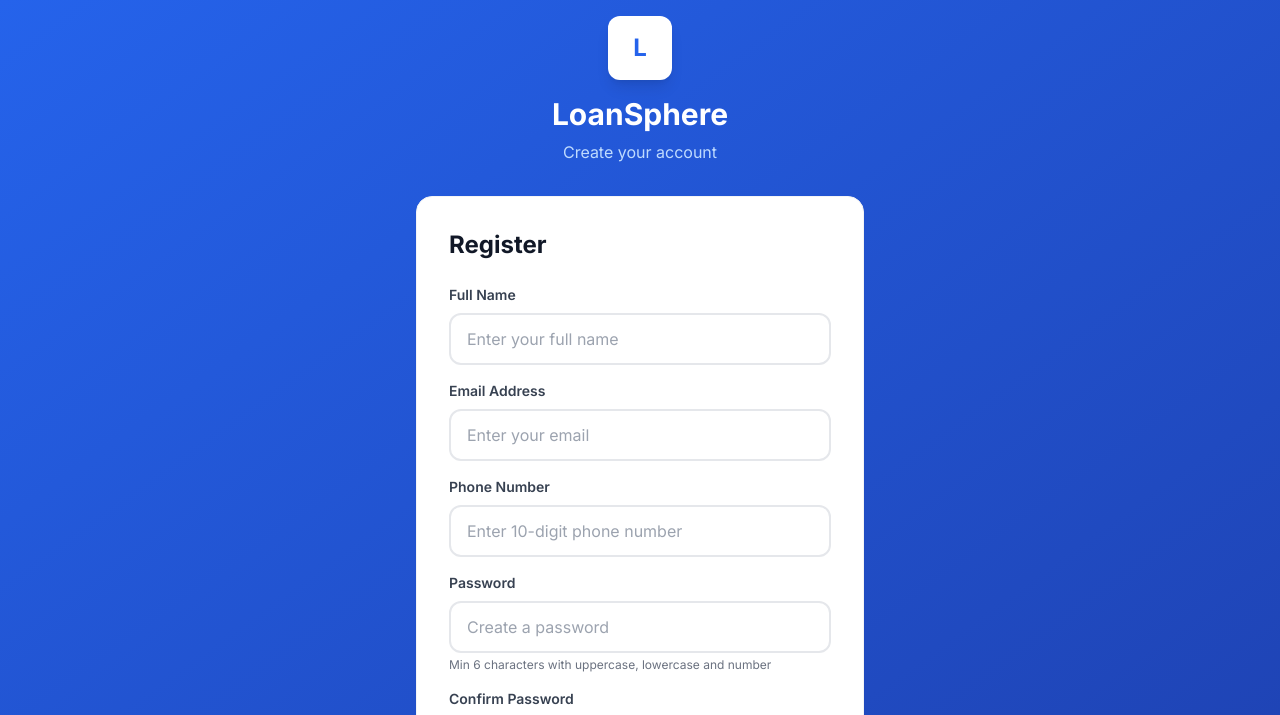
Test case: Authentication › Registration › should validate password match
Step 1. Type "Test User" into the field named "name" → (640, 339), box [449, 313, 831, 365]
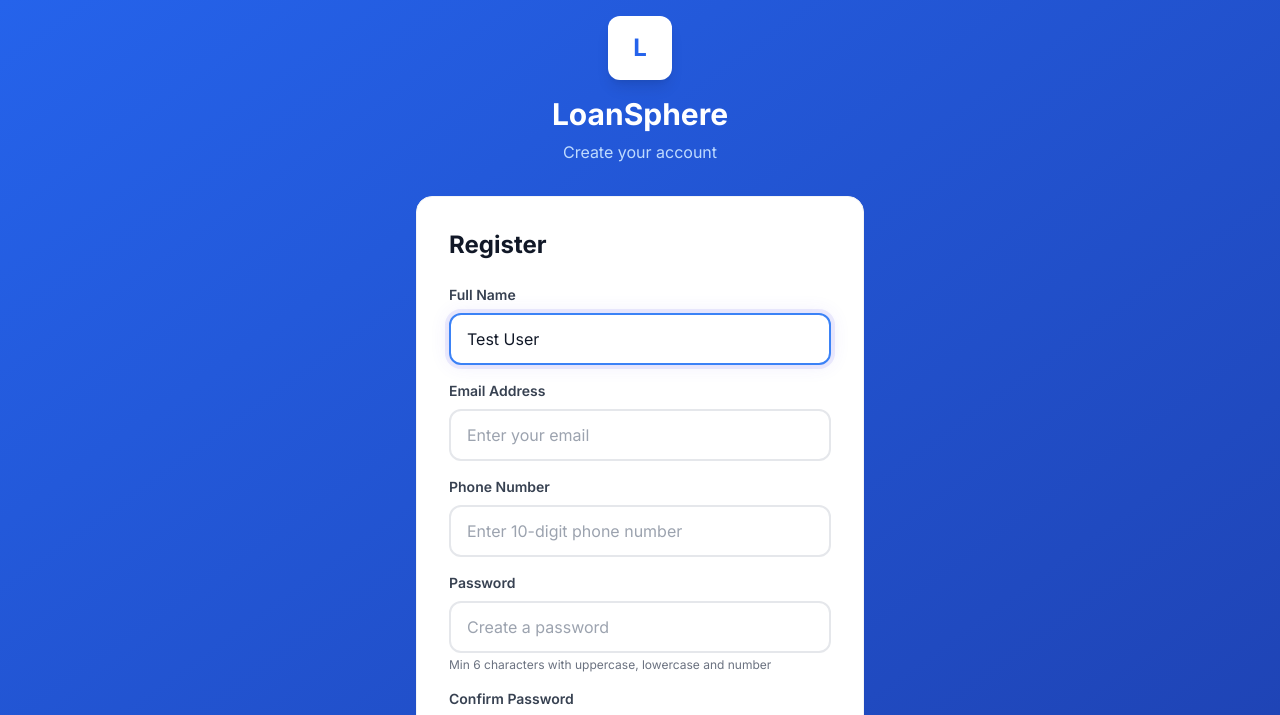
Step 2. Type "testuser@example.com" into the field with placeholder "Enter your email" → (640, 435), box [449, 409, 831, 461]
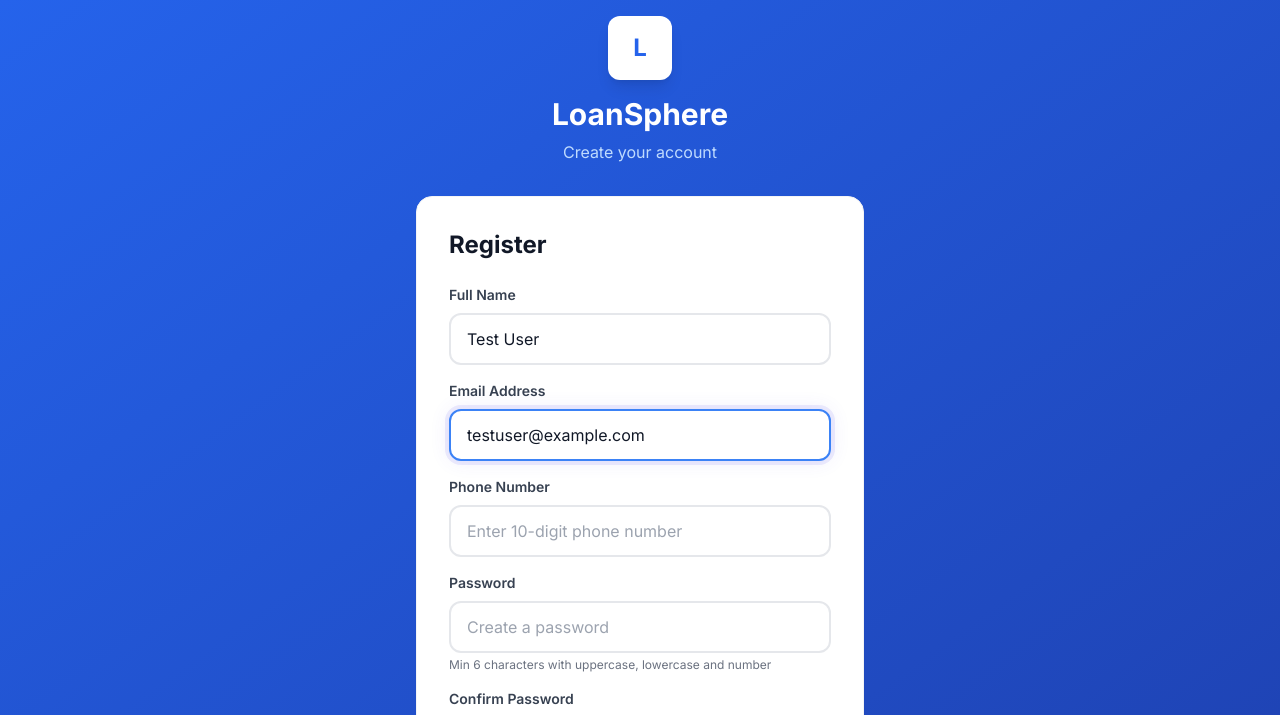
Step 3. Type "Test@123" into the password field named "password" → (640, 627), box [449, 601, 831, 653]
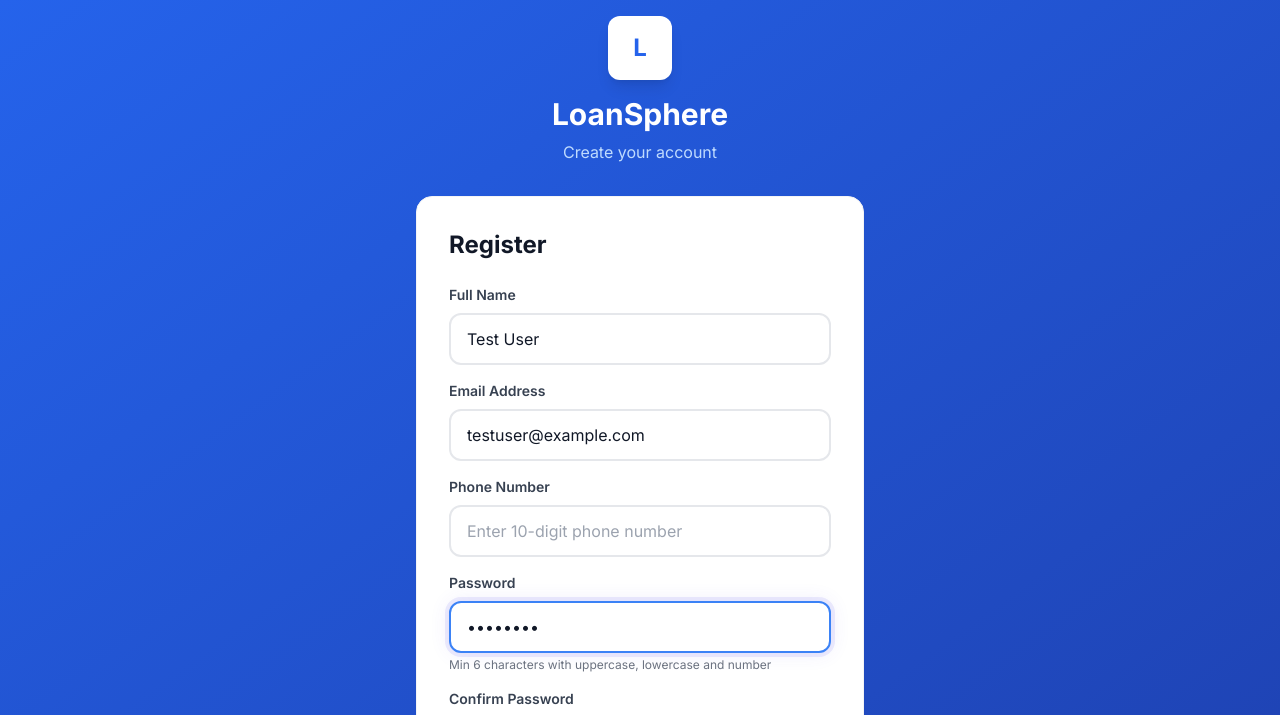
Step 4. Scroll
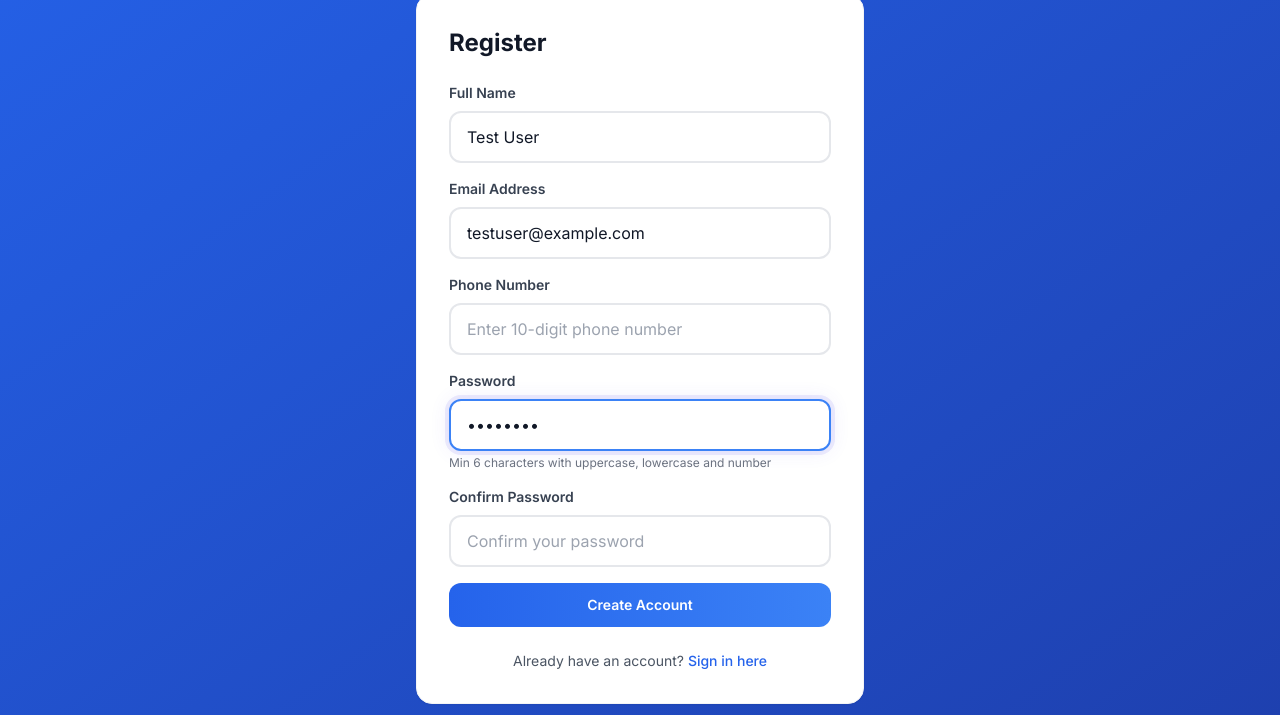
Step 5. Type "Test@456" into the password field named "confirmPassword" → (640, 541), box [449, 515, 831, 567]
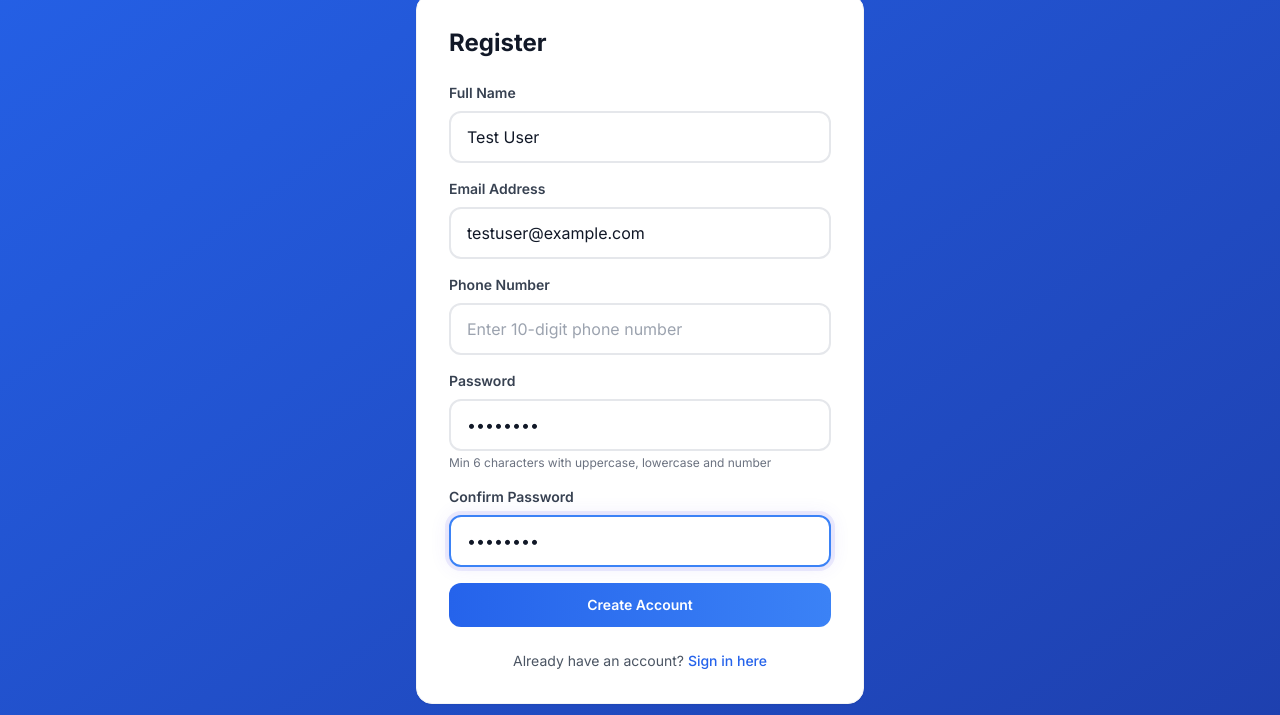
Step 6. Click the submit button → (640, 605), box [449, 583, 831, 627]
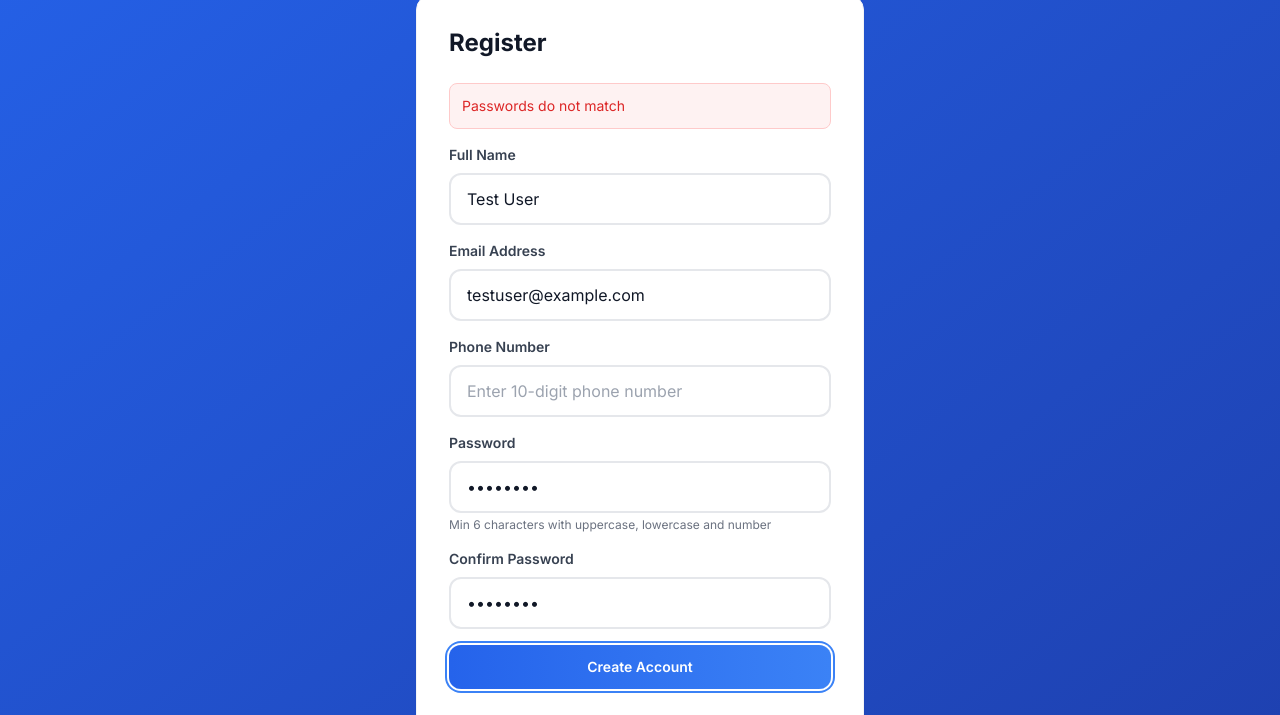
Expected: the text "Passwords do not match" is shown, [449, 83, 831, 129]
